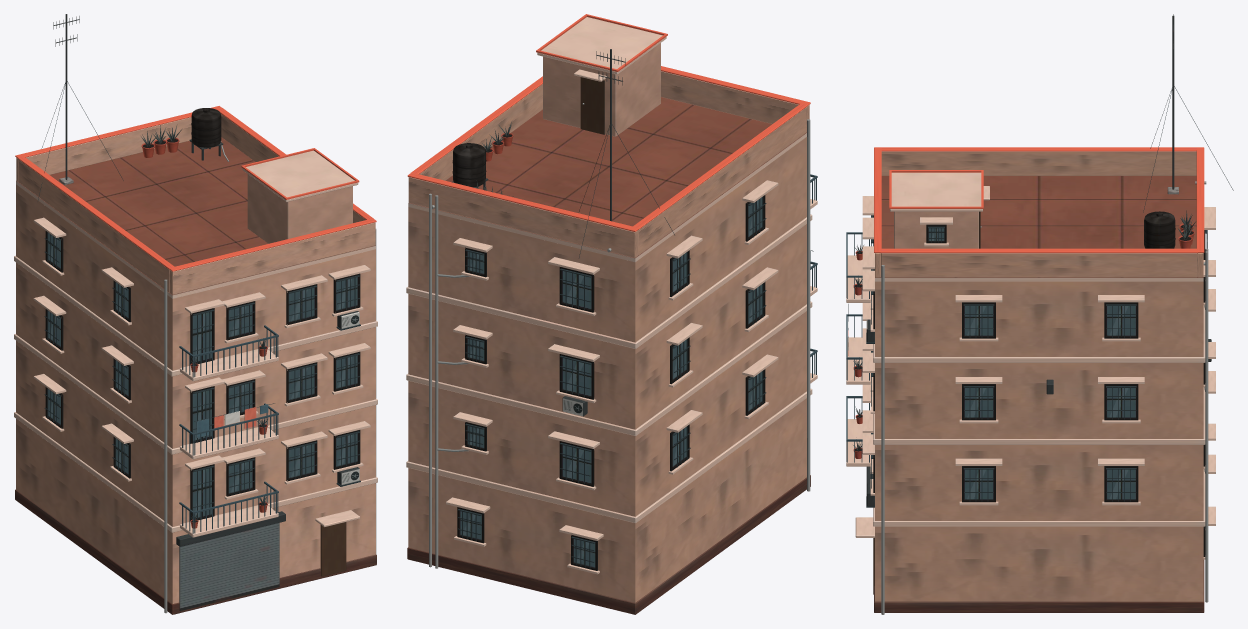
File: home-building.glb
The picture shows the model from 3 angles, left to right: view 1: azimuth 30°, elevation 25°; view 2: azimuth 150°, elevation 25°; view 3: azimuth 270°, elevation 25°; orthographic projection. The views are drawn at different scales.
Visible parts, largest first — view 1: building, roof, windows, stair-hut, tank, mast; view 2: building, roof, stair-hut, windows, tank, mast; view 3: building, roof, stair-hut, windows, tank, mast.
Part boxes in pixels (bbox=[...]): building: bbox=[14, 184, 377, 614]; roof: bbox=[15, 106, 376, 298]; windows: bbox=[48, 233, 358, 519]; stair-hut: bbox=[241, 148, 359, 243]; tank: bbox=[189, 108, 228, 161]; mast: bbox=[37, 14, 123, 201]; building: bbox=[406, 119, 817, 614]; roof: bbox=[407, 66, 810, 262]; stair-hut: bbox=[536, 14, 667, 136]; windows: bbox=[459, 197, 762, 567]; tank: bbox=[452, 143, 488, 190]; mast: bbox=[579, 49, 674, 258]; building: bbox=[846, 196, 1215, 614]; roof: bbox=[874, 147, 1206, 281]; stair-hut: bbox=[889, 170, 989, 248]; windows: bbox=[928, 228, 1136, 500]; tank: bbox=[1144, 211, 1175, 248]; mast: bbox=[1143, 14, 1233, 212].
Size of the model in its own units: 9.9 by 20.6 by 14.15.
Materials: 2 (2 with a texture image).
